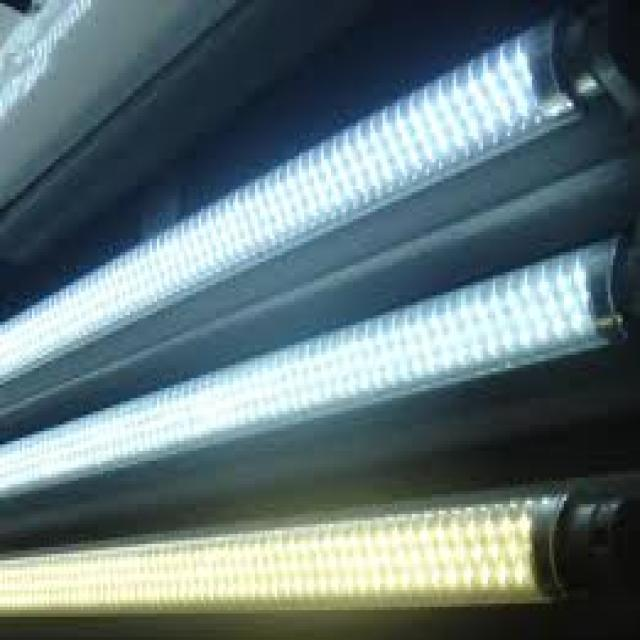tubelight_on: (0, 216, 640, 520)
